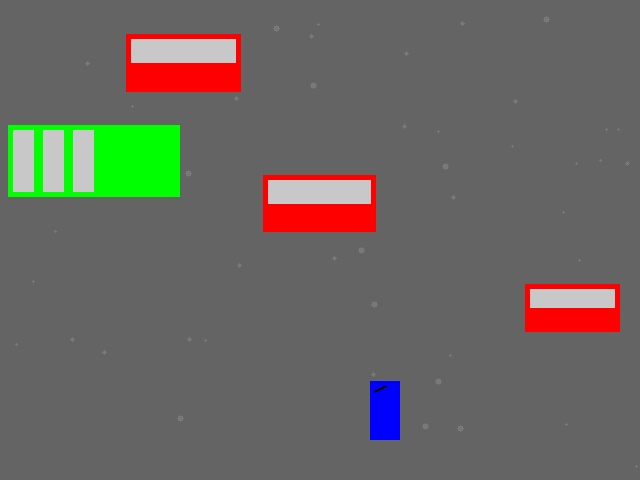bus: (8, 125, 179, 196)
car: (126, 34, 240, 91), (263, 175, 375, 231), (525, 284, 619, 331)
motorcycle: (370, 381, 399, 439)
